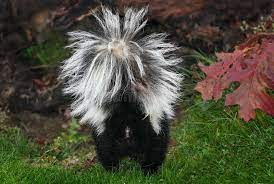skunk: (64, 5, 177, 171)
